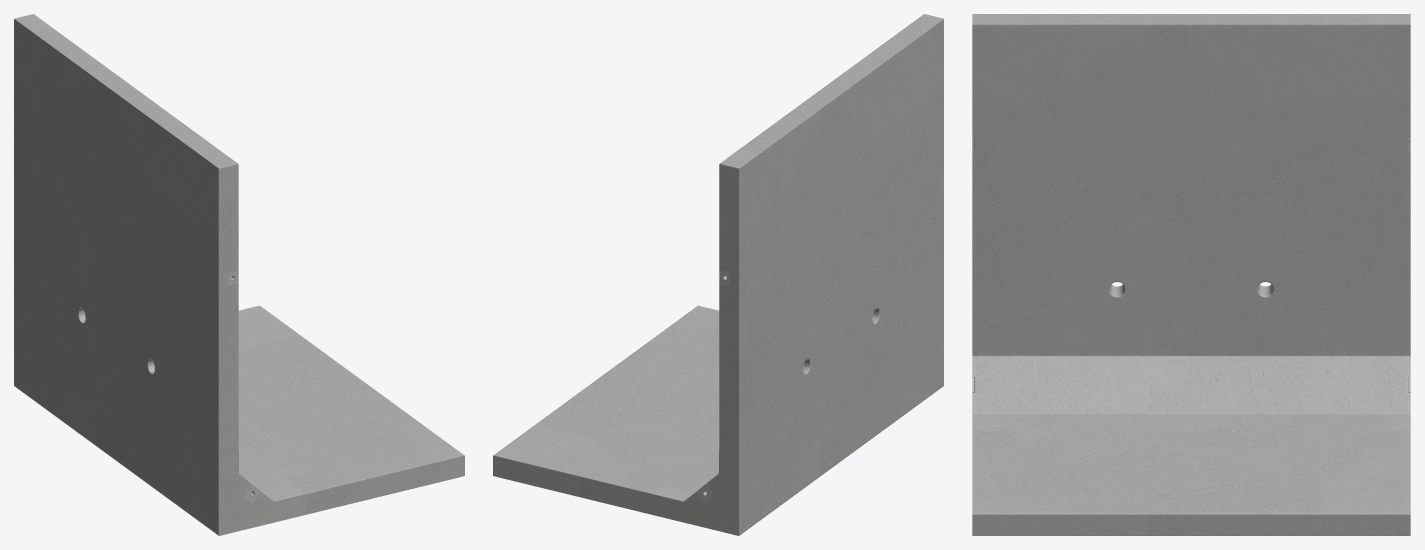
Rendered from asset.glb.
3 renders of one model, left to right at view 1: azimuth 30°, elevation 25°; view 2: azimuth 150°, elevation 25°; view 3: azimuth 270°, elevation 25°, orthographic. The views are drawn at different scales.
Parts seen in each view (by area): view 1: Plane002; view 2: Plane002; view 3: Plane002.
Boxes of the visible parts, x1,y1,x2,y2 form: Plane002: (14, 14, 464, 535); Plane002: (493, 14, 943, 535); Plane002: (972, 14, 1410, 535).
Bounding box in the file's own units: 0.2104 × 0.3002 × 0.3031.
2 materials, 1 textured.
